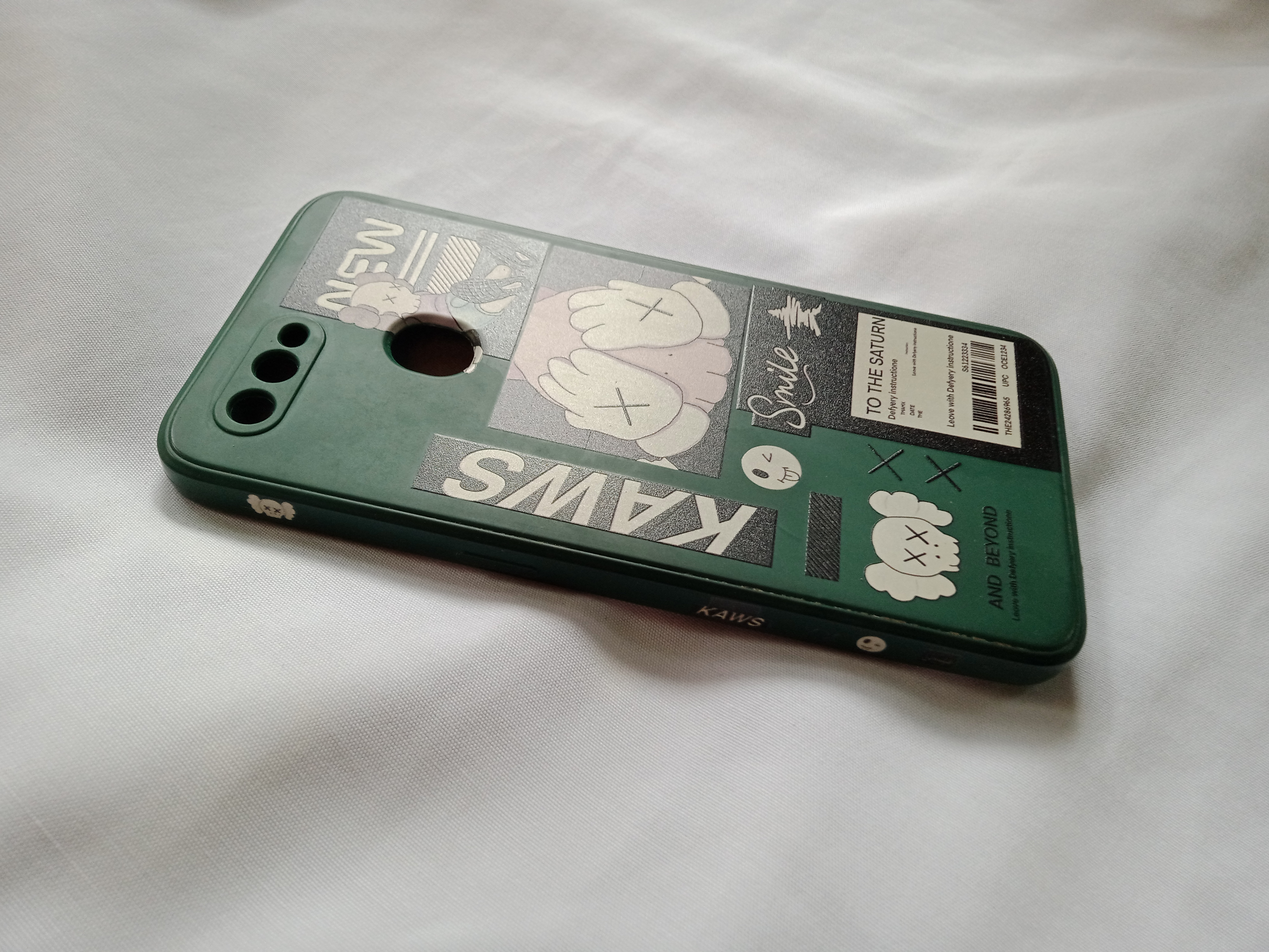plastic: (95, 58, 1184, 821)
